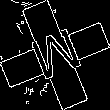M_S: (24, 23, 86, 87)
